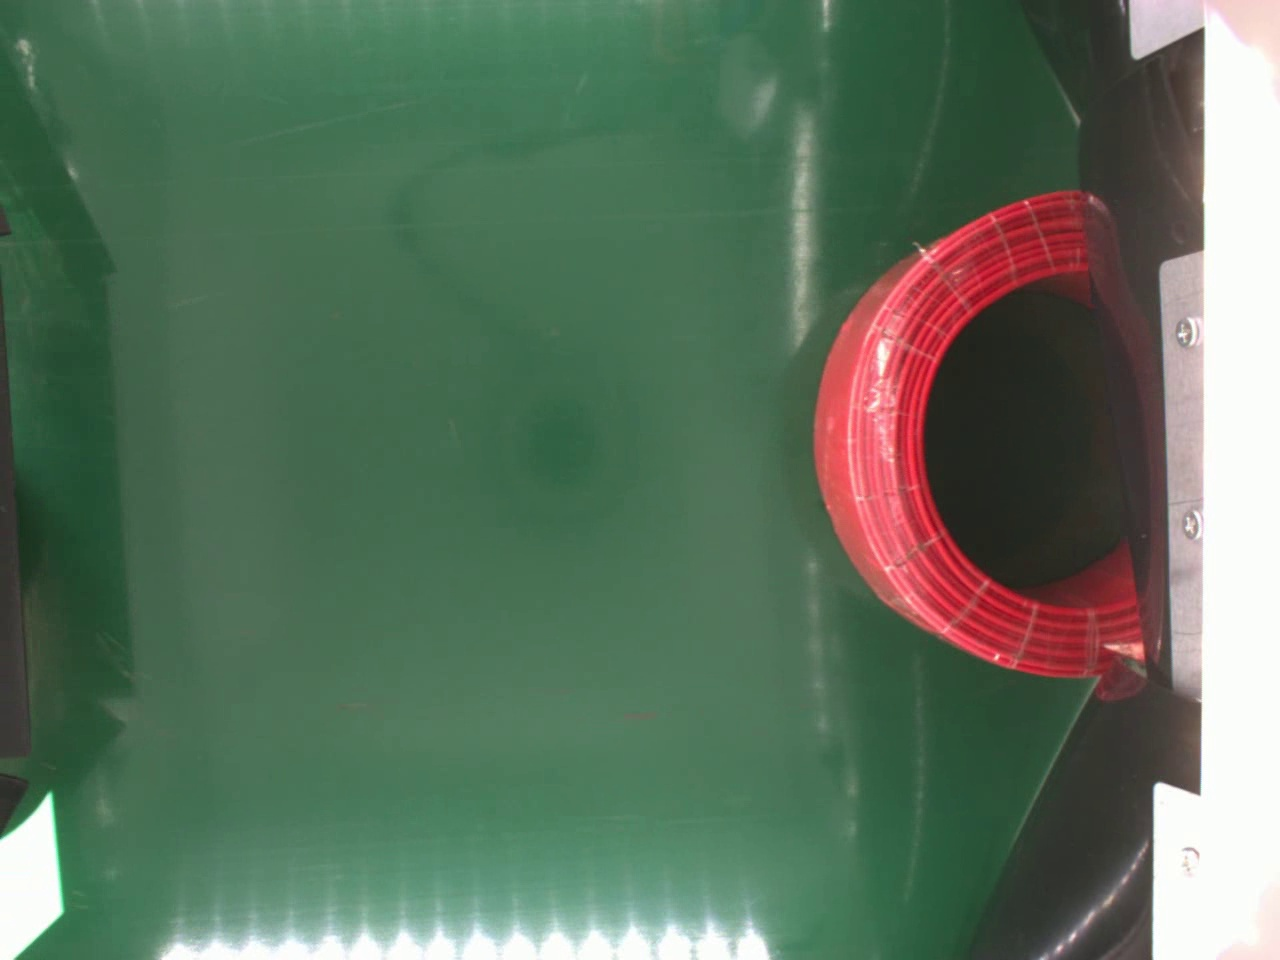red: (809, 188, 1144, 683)
